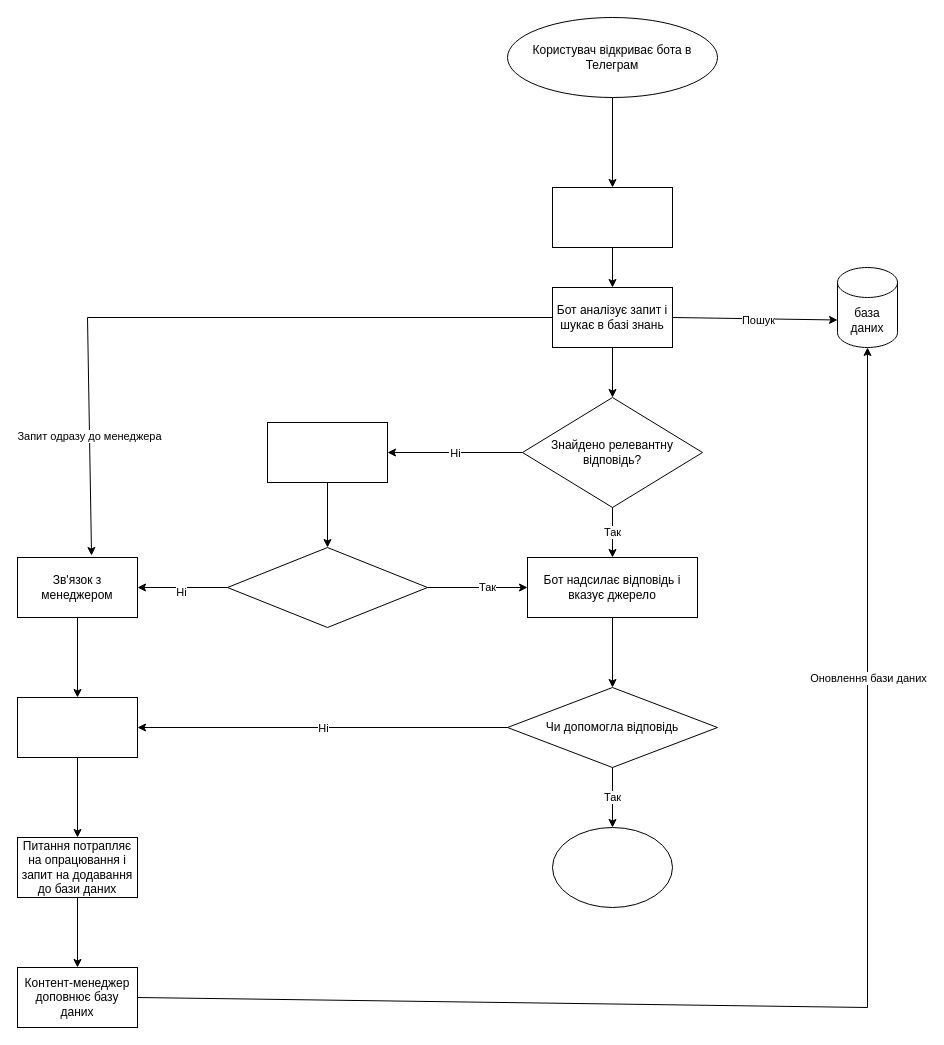
Image size: 944x1045. Some labels were removed from this diagram. Each missing label, with the centre of its shape:
Бот пропонує схожі теми й просить уточнити запит: the point at 327,452
Користувач робить запит: the point at 612,217
Менеджер відповідає в тому самому чаті: the point at 77,727
Питання закрито: the point at 612,867
Уточнення допомогло?: the point at 327,587
